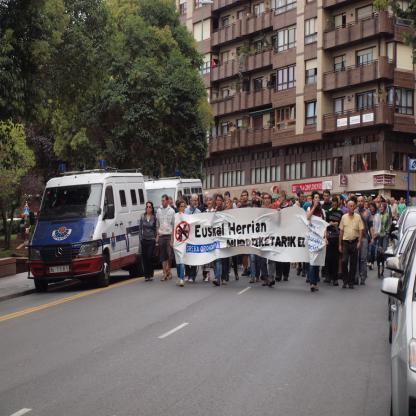Ambulance - v1 Ambulance last generate: (26, 160, 148, 288), (142, 168, 205, 264)
